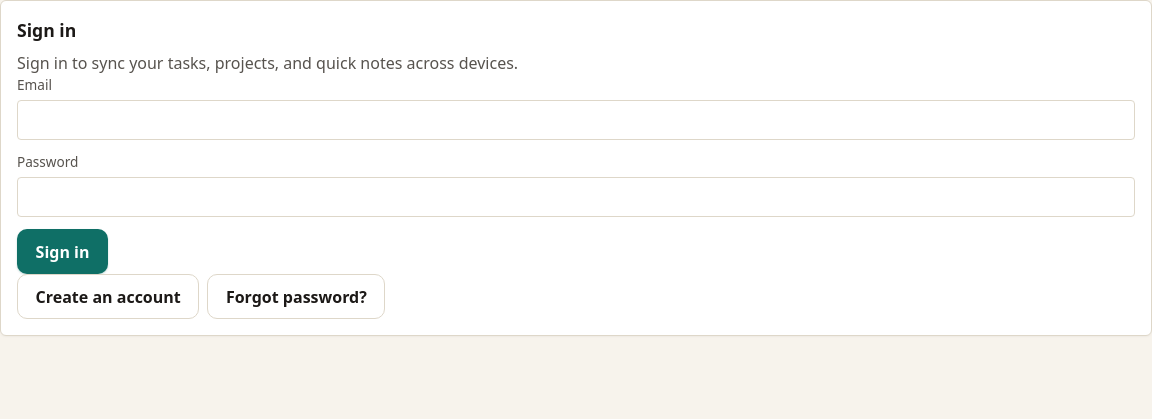
Scenario: AccountPanel › signs in successfully and shows a plain success message
In the field labelled "Email": (576, 120) top-left (17, 100), bottom-right (1135, 140), type "a@example.com"
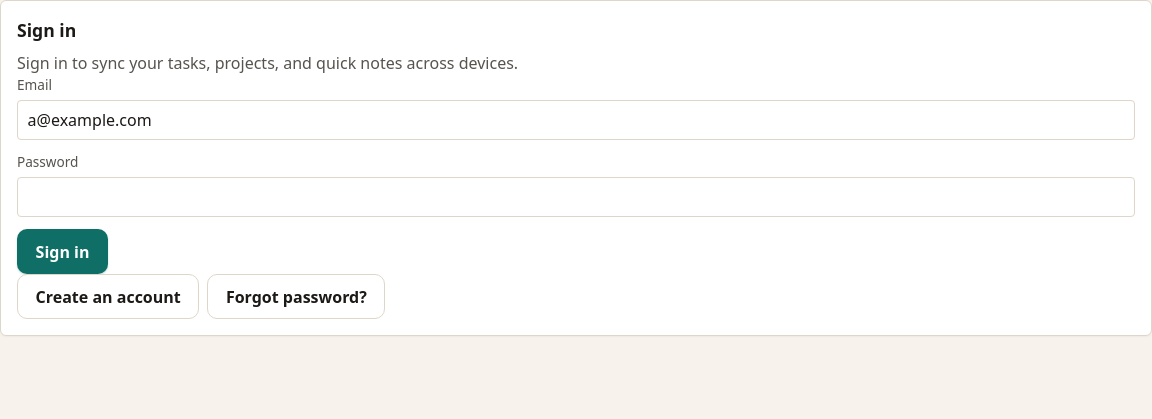
In the password field labelled "Password": (576, 197) top-left (17, 176), bottom-right (1135, 217), type "secret123"
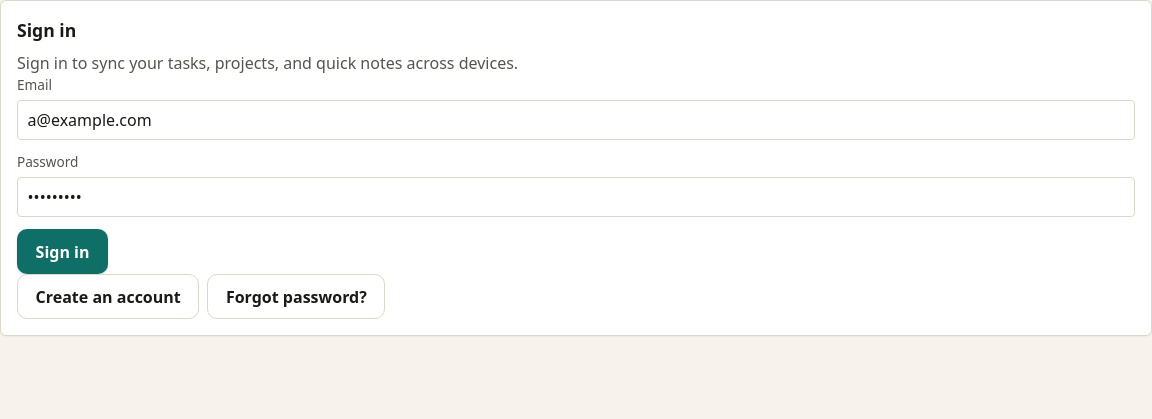
Click the button "Sign in": (63, 252) top-left (17, 229), bottom-right (108, 274)
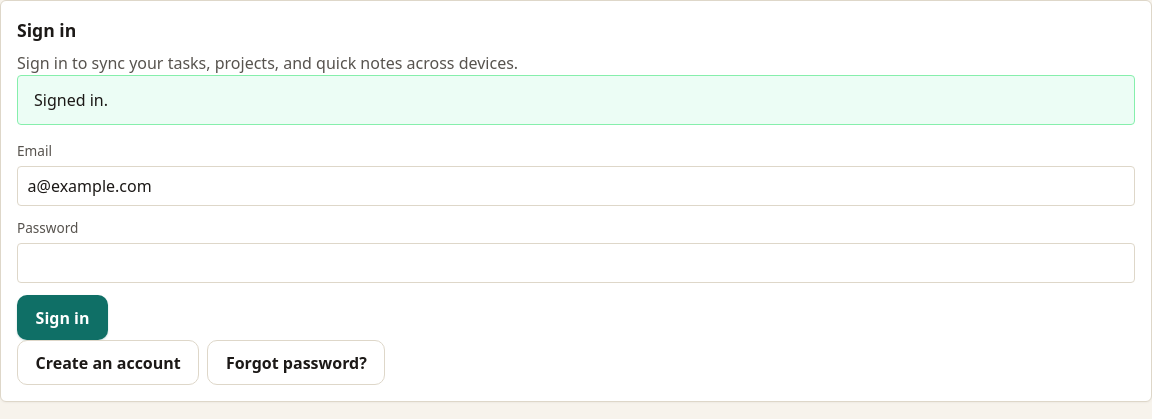
expect the text "Signed in." is shown: met, box top-left (17, 75), bottom-right (1135, 125)
